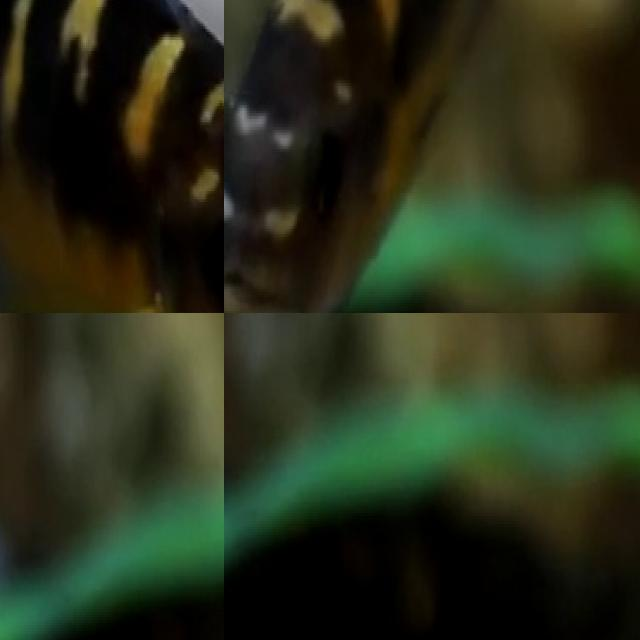fish: (224, 0, 616, 313), (0, 0, 224, 313)
